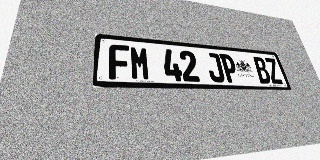2: (179, 50, 200, 82)
4: (162, 49, 183, 81)
B: (252, 56, 272, 84)
F: (109, 44, 130, 80)
J: (205, 52, 226, 82)
M: (130, 46, 151, 80)
P: (219, 54, 240, 83)
Z: (264, 57, 284, 84)
